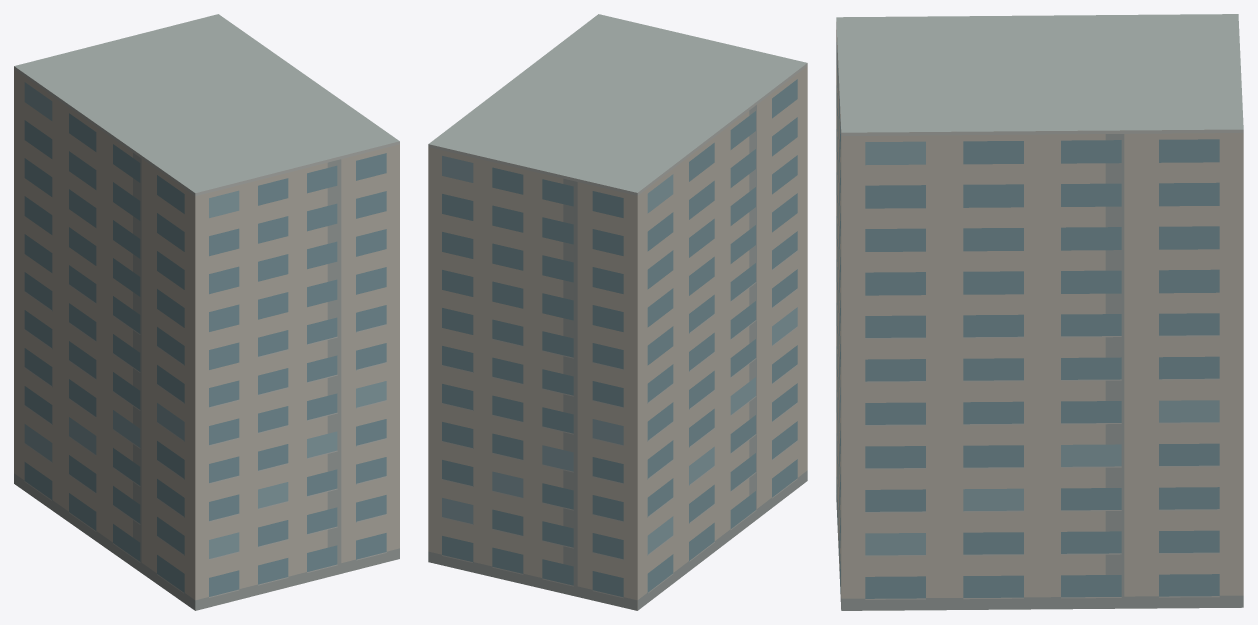
File: residential-6a3d18d3-919a-468c-bd09-16a2a74e7fef.glb
3 views of the same model, side by side, from view 1: azimuth 30°, elevation 25°; view 2: azimuth 150°, elevation 25°; view 3: azimuth 270°, elevation 25° (orthographic). The views are drawn at different scales.
Parts seen in each view (by area): view 1: residential-6a3d18d3-919a-468c-bd09-16a2a74e7fef.tmp; view 2: residential-6a3d18d3-919a-468c-bd09-16a2a74e7fef.tmp; view 3: residential-6a3d18d3-919a-468c-bd09-16a2a74e7fef.tmp.
Part boxes in pixels (x1,y1,x2,y2): residential-6a3d18d3-919a-468c-bd09-16a2a74e7fef.tmp: [14, 14, 399, 610]; residential-6a3d18d3-919a-468c-bd09-16a2a74e7fef.tmp: [428, 14, 807, 610]; residential-6a3d18d3-919a-468c-bd09-16a2a74e7fef.tmp: [836, 14, 1243, 610].
Bounding box in the file's own units: 18.1 × 34 × 26.26.
